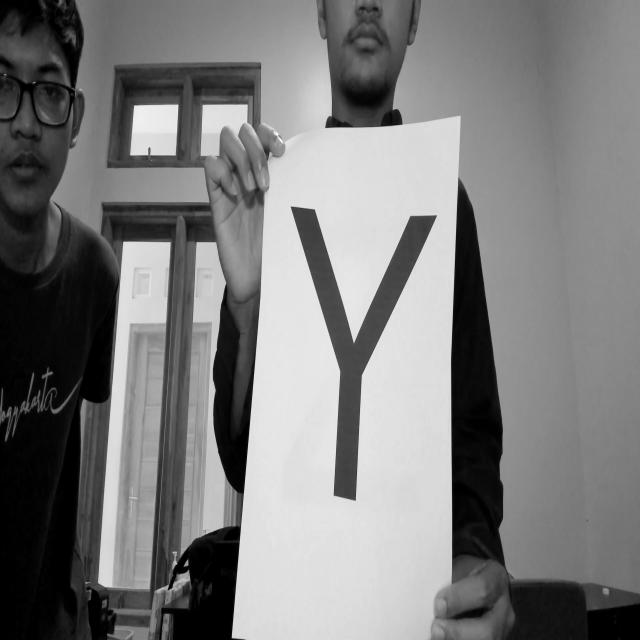y: (285, 190, 453, 522)
